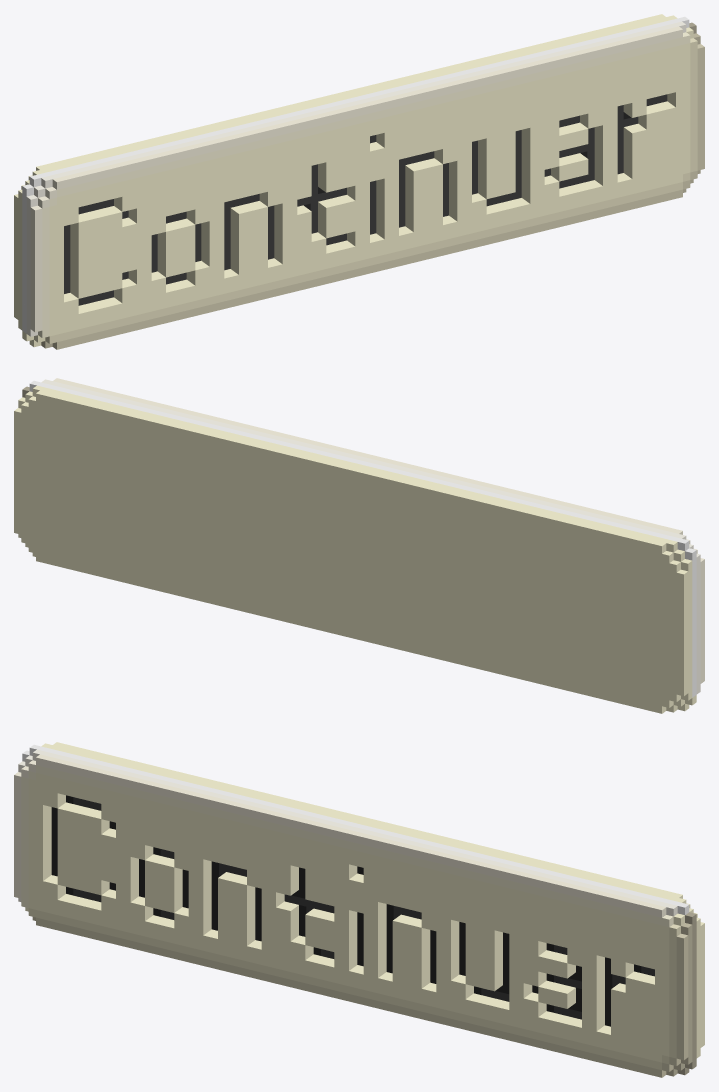
File: Continuar.obj
The picture shows the model from 3 angles, top to bottom: view 1: azimuth 30°, elevation 25°; view 2: azimuth 150°, elevation 25°; view 3: azimuth 330°, elevation 25°; orthographic projection.
Bounding box in the file's own units: 9.2 × 2.2 × 0.5.
Materials: 1 (1 with a texture image).
